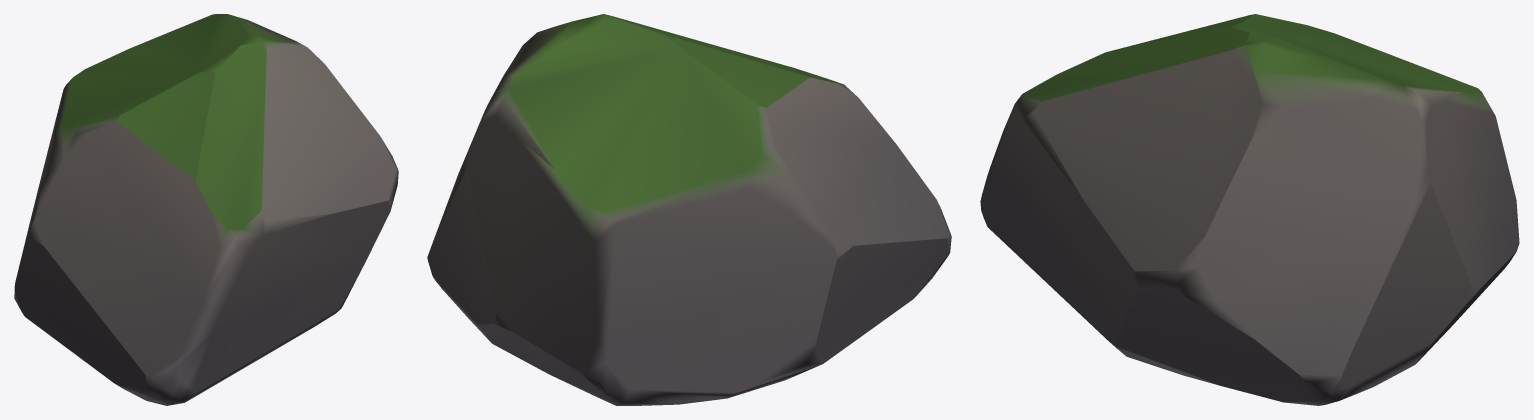
File: rock_2.glb
The picture shows the model from 3 angles, left to right: view 1: azimuth 30°, elevation 25°; view 2: azimuth 150°, elevation 25°; view 3: azimuth 270°, elevation 25°; orthographic projection. The views are drawn at different scales.
Parts seen in each view (by area): view 1: rock_2; view 2: rock_2; view 3: rock_2.
Boxes of the visible parts, <box> form: rock_2: <box>14,14,398,405</box>; rock_2: <box>427,14,951,405</box>; rock_2: <box>980,14,1519,405</box>.
Size of the model in its own units: 1.99 by 1.37 by 2.21.
